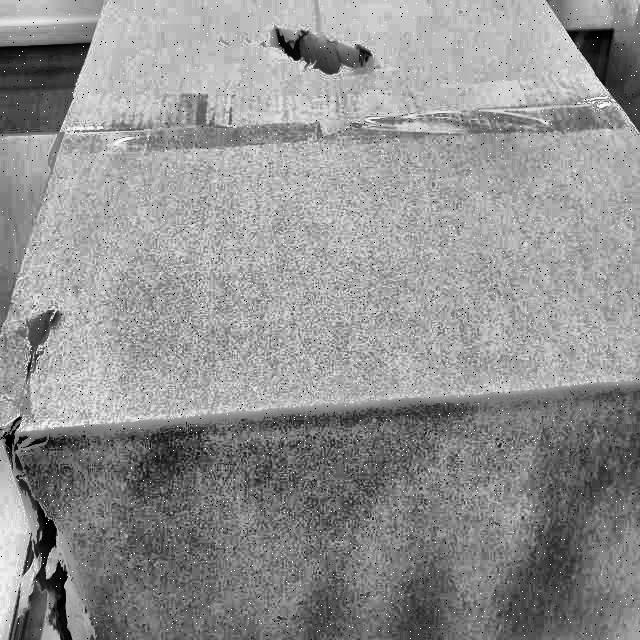box: (0, 0, 639, 639)
hole: (1, 426, 87, 640), (264, 17, 379, 94)
